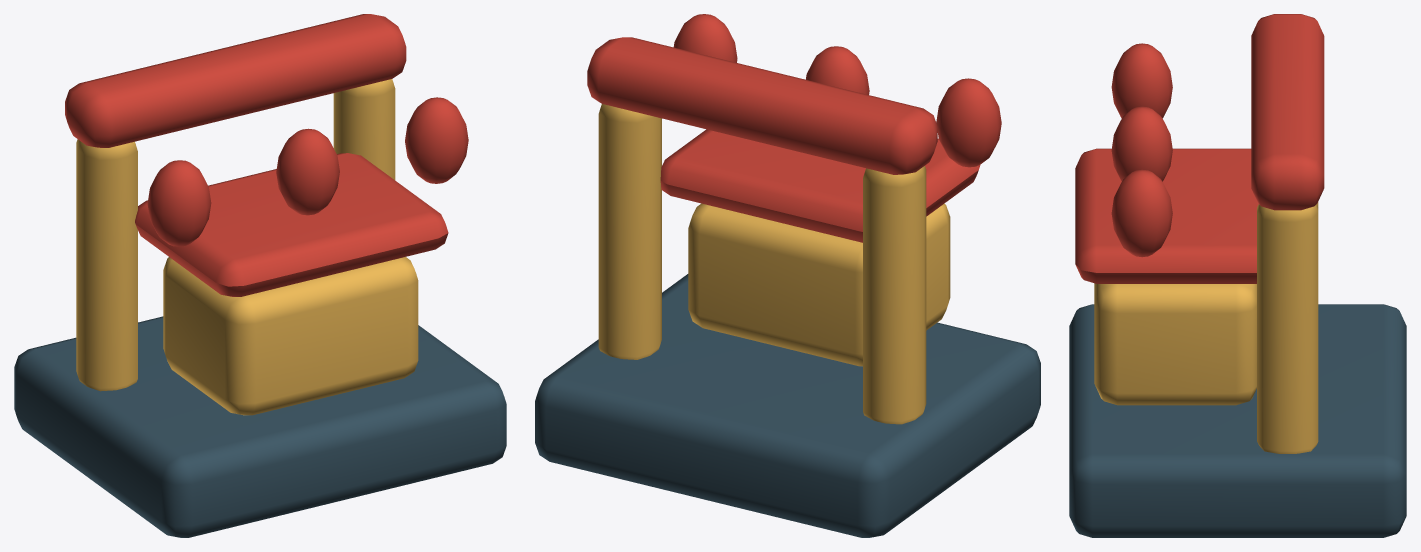
Rendered from festival.glb.
3 views of the same model, side by side, from view 1: azimuth 30°, elevation 25°; view 2: azimuth 150°, elevation 25°; view 3: azimuth 270°, elevation 25° (orthographic). The views are drawn at different scales.
Visible parts, largest first — view 1: festival-platform, festival-stall, grand-gate-top, festival-roof, grand-gate-left, grand-gate-right, festival-lantern, festival-lantern.002, festival-lantern.001; view 2: festival-platform, grand-gate-top, festival-stall, festival-roof, grand-gate-left, grand-gate-right, festival-lantern, festival-lantern.002, festival-lantern.001; view 3: festival-platform, festival-stall, festival-roof, grand-gate-right, grand-gate-top, festival-lantern.002, festival-lantern, festival-lantern.001.
Part boxes in pixels (box(x1,y1,x2,y2)): festival-platform: box(14, 316, 506, 537); festival-stall: box(163, 257, 418, 415); grand-gate-top: box(65, 14, 406, 147); festival-roof: box(135, 153, 448, 296); grand-gate-left: box(76, 139, 137, 391); grand-gate-right: box(333, 79, 395, 179); festival-lantern: box(147, 160, 211, 246); festival-lantern.002: box(405, 97, 468, 183); festival-lantern.001: box(276, 128, 339, 215); festival-platform: box(535, 274, 1040, 537); grand-gate-top: box(587, 37, 937, 174); festival-stall: box(688, 203, 950, 366); festival-roof: box(660, 129, 980, 242); grand-gate-left: box(863, 166, 926, 424); grand-gate-right: box(598, 104, 661, 359); festival-lantern: box(936, 78, 1001, 167); festival-lantern.002: box(673, 14, 737, 62); festival-lantern.001: box(806, 46, 869, 94); festival-platform: box(1069, 304, 1406, 537); festival-stall: box(1094, 283, 1256, 405); festival-roof: box(1075, 148, 1258, 283); grand-gate-right: box(1257, 204, 1318, 453); grand-gate-top: box(1251, 14, 1324, 210); festival-lantern.002: box(1111, 169, 1172, 257); festival-lantern: box(1111, 43, 1172, 118); festival-lantern.001: box(1111, 106, 1172, 181).
Bounding box in the file's own units: 1.04 × 1.09 × 0.88.
